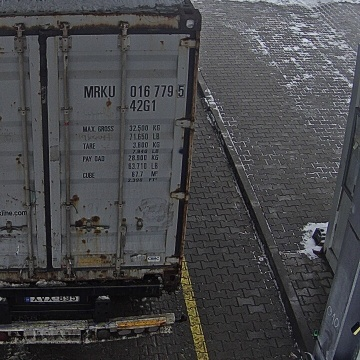serial_id: (84, 85, 184, 97)
